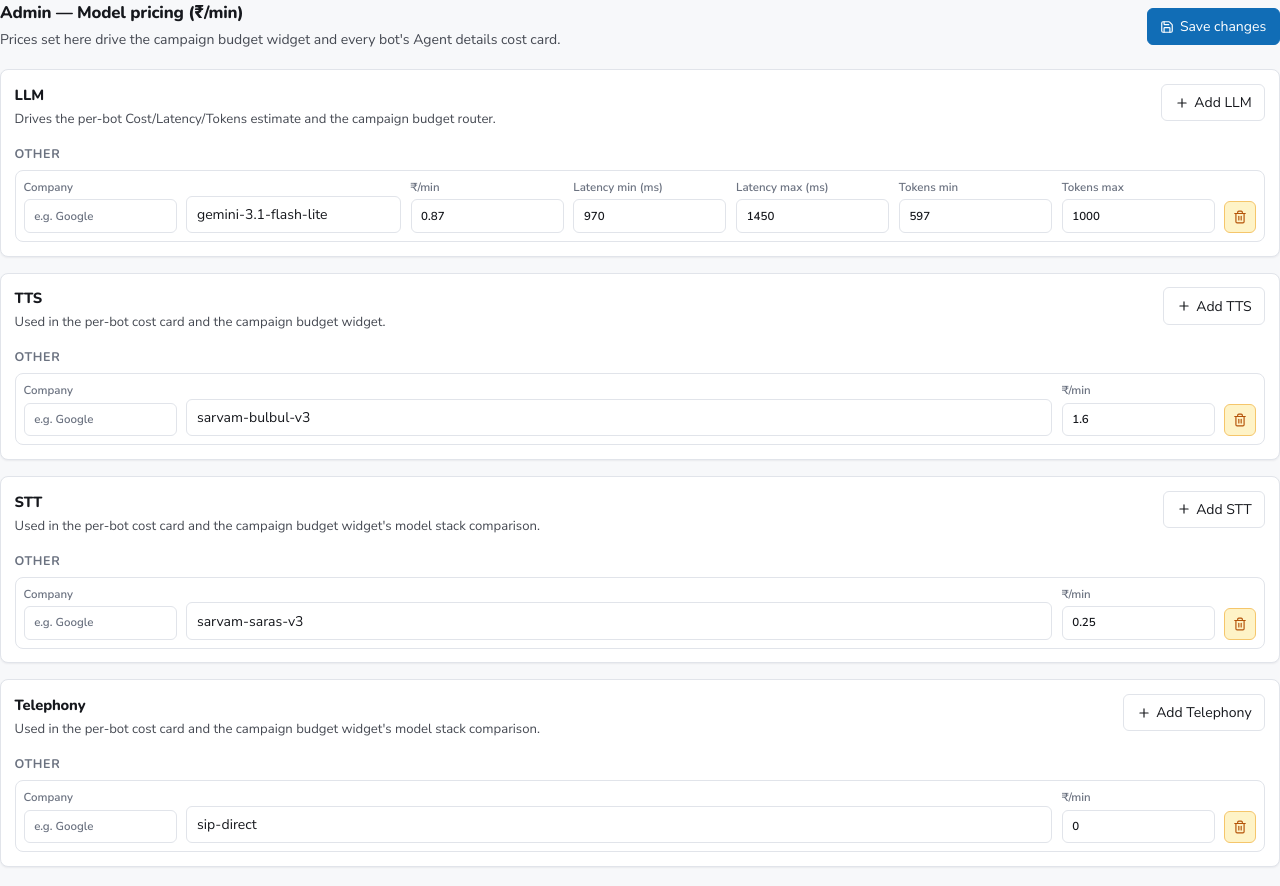
Scenario: AdminView › adding an LLM row shows the latency/token fields
The width and height of the screenshot is (1280, 886).
Step 1. Click the button "Add LLM" → click(1213, 103), box [1161,84,1265,121]
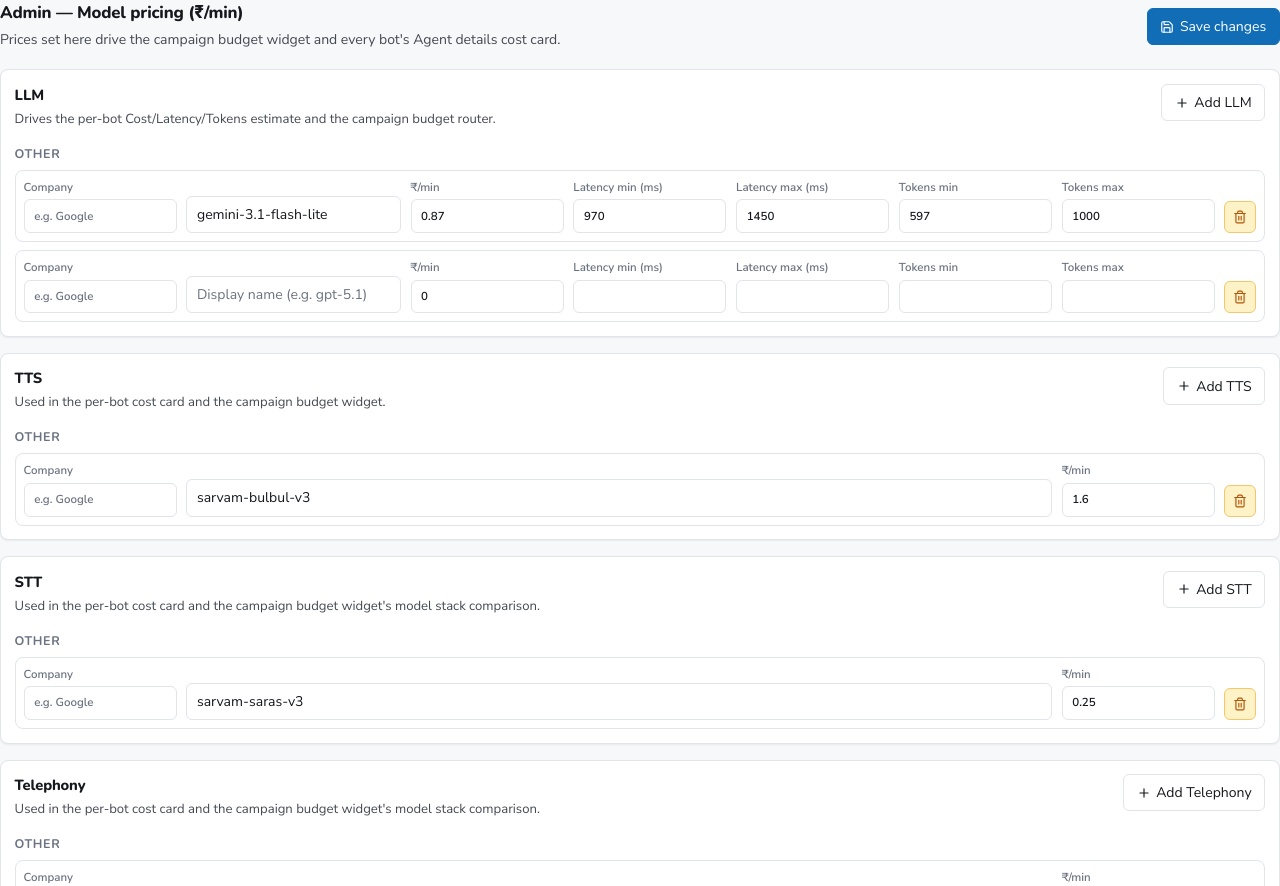
expect the text "Latency min (ms)" is shown 2 times: met, box [573,179,726,233]; [573,259,726,313]
